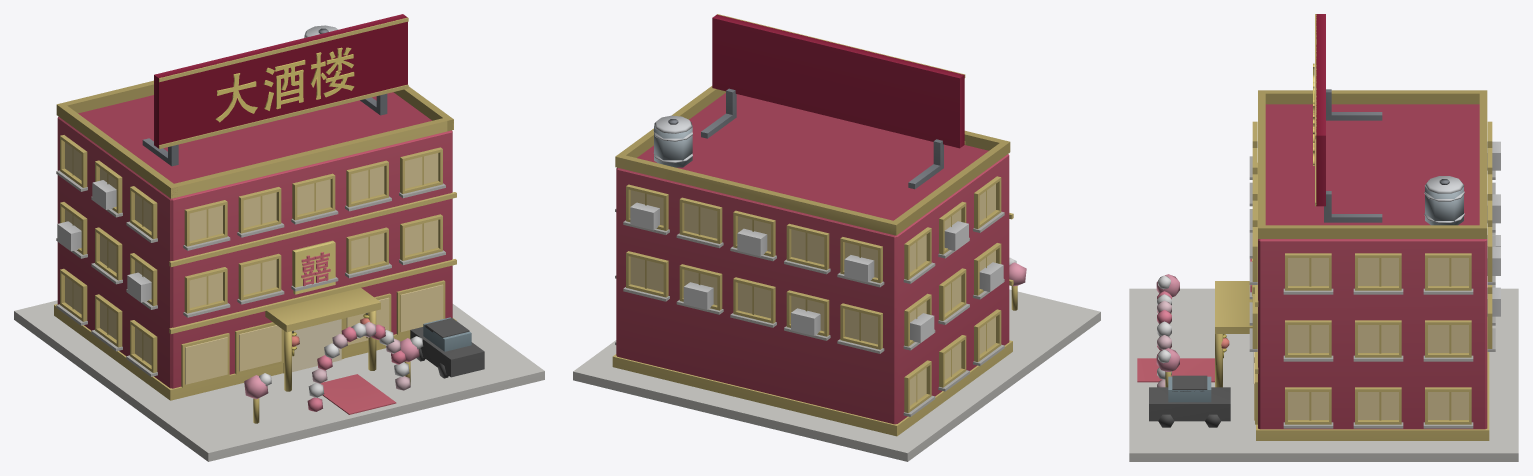
Rendered from banquet.glb.
3 views of the same model, side by side, from view 1: azimuth 30°, elevation 25°; view 2: azimuth 150°, elevation 25°; view 3: azimuth 270°, elevation 25° (orthographic).
Visible parts, largest first — view 1: banquet; view 2: banquet; view 3: banquet.
Boxes of the visible parts, box(x1,y1,x2,y2) form: banquet: box(14, 14, 544, 461); banquet: box(573, 14, 1100, 461); banquet: box(1129, 14, 1518, 461).
Size of the model in its own units: 2 by 1.73 by 2.
